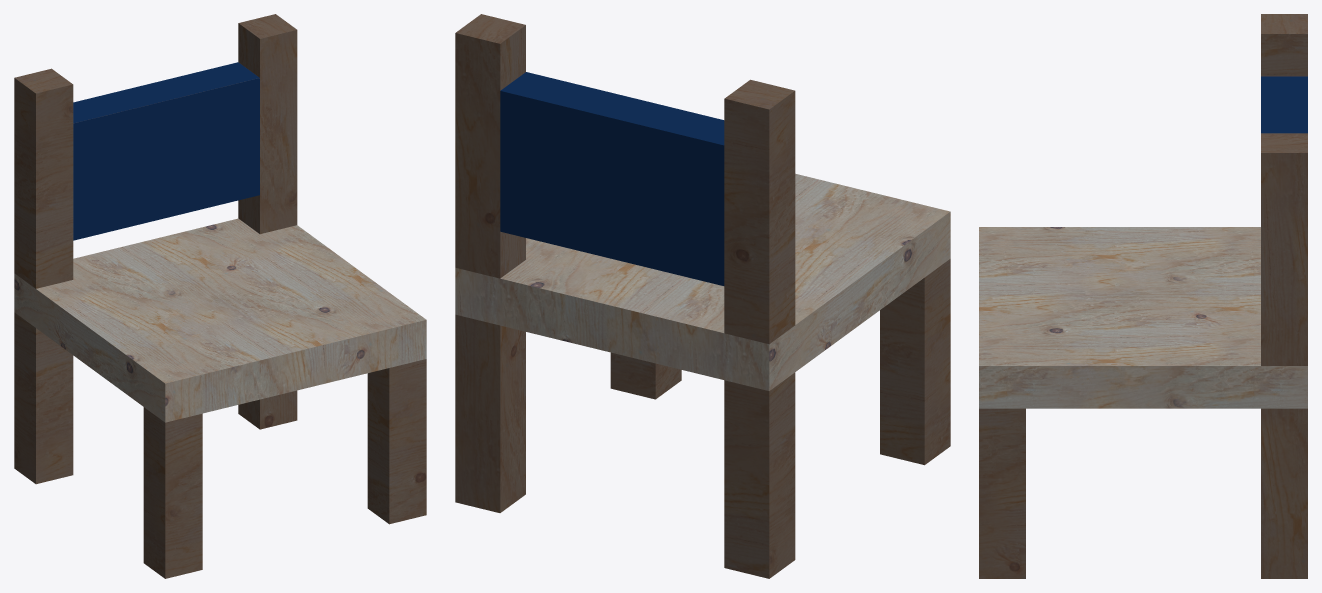
The model's file is chair.fbx.
3 renders of one model, left to right at view 1: azimuth 30°, elevation 25°; view 2: azimuth 150°, elevation 25°; view 3: azimuth 270°, elevation 25°, orthographic. The views are drawn at different scales.
Visible parts, largest first — view 1: Cube; view 2: Cube; view 3: Cube.
Boxes of the visible parts, left/top/right/bottom form: Cube: left=14, top=14, right=426, bottom=578; Cube: left=455, top=14, right=950, bottom=578; Cube: left=979, top=14, right=1307, bottom=578.
Size of the model in its own units: 70 by 100 by 70.
